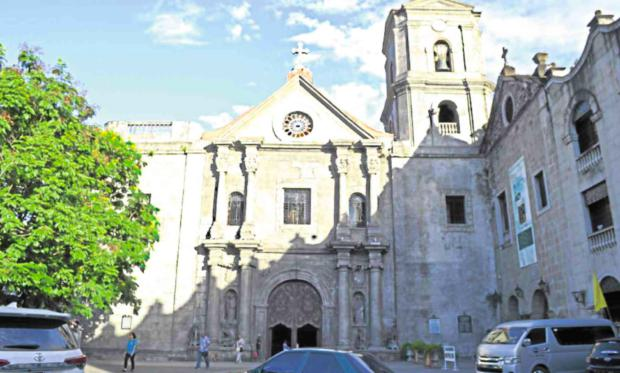San Agustin Church: (190, 3, 503, 352)
